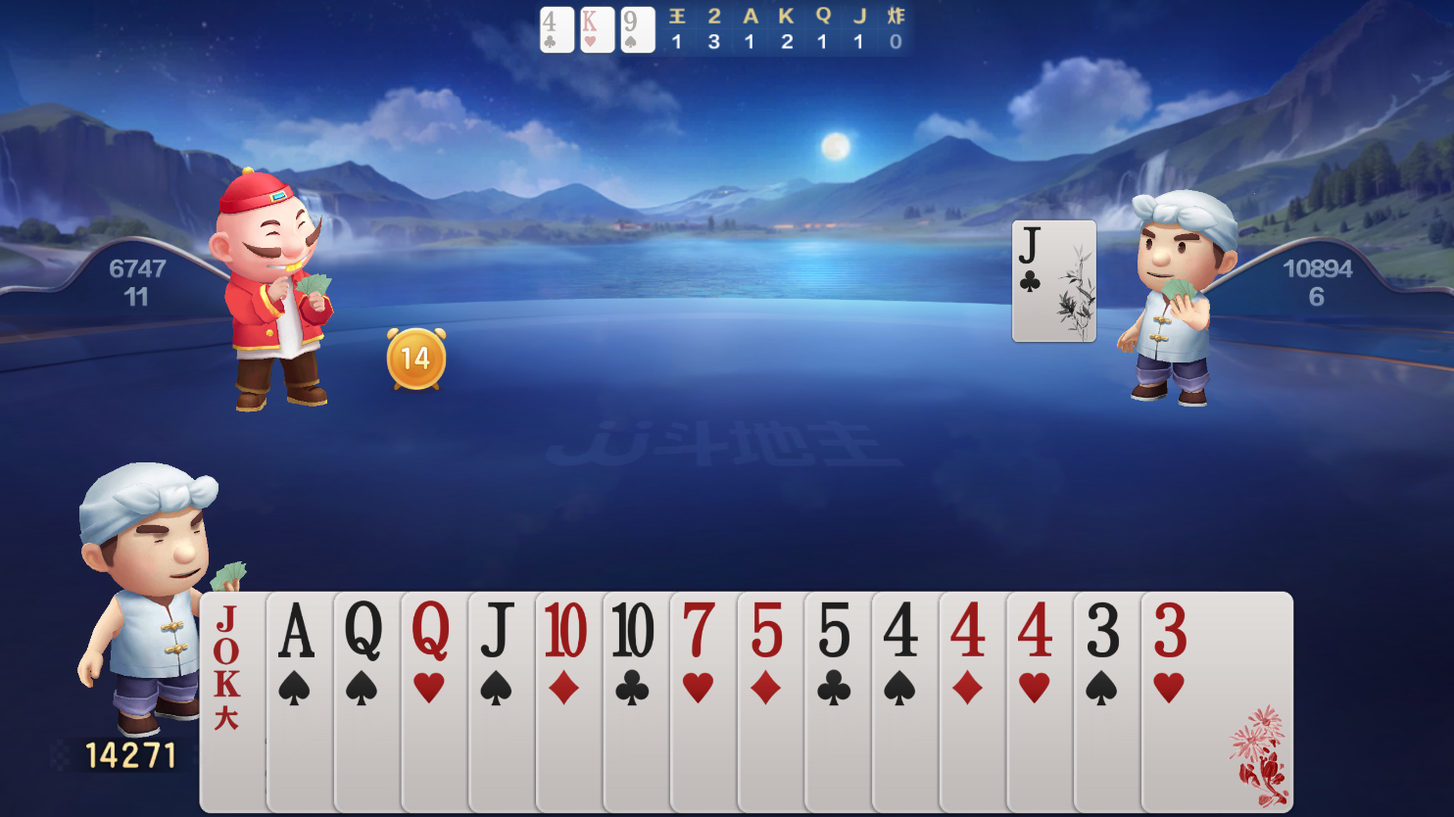A: (270, 599, 324, 667)
J: (471, 598, 521, 669), (1011, 221, 1050, 270)
JOKER: (203, 598, 254, 703)
K: (574, 4, 602, 44)
Q: (338, 598, 390, 667), (405, 598, 457, 664)
five: (744, 599, 795, 666), (811, 599, 860, 667)
four: (875, 597, 930, 668), (944, 598, 996, 666), (1010, 599, 1063, 665), (537, 8, 560, 37)
nine: (621, 6, 640, 39)
seven: (674, 597, 724, 665)
ten: (538, 598, 594, 666), (606, 598, 659, 668)
three: (1078, 598, 1132, 668), (1145, 599, 1197, 664)
